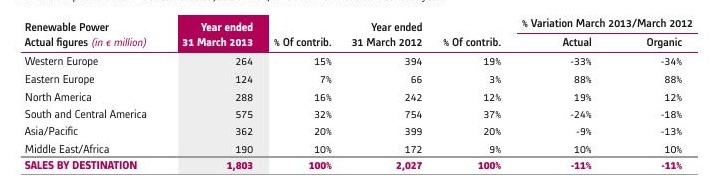table: (0, 0, 713, 196)
